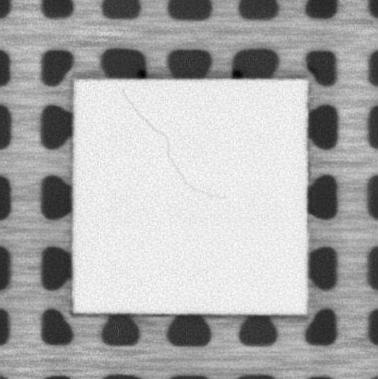DIE_CRACK: (121, 88, 211, 196)
